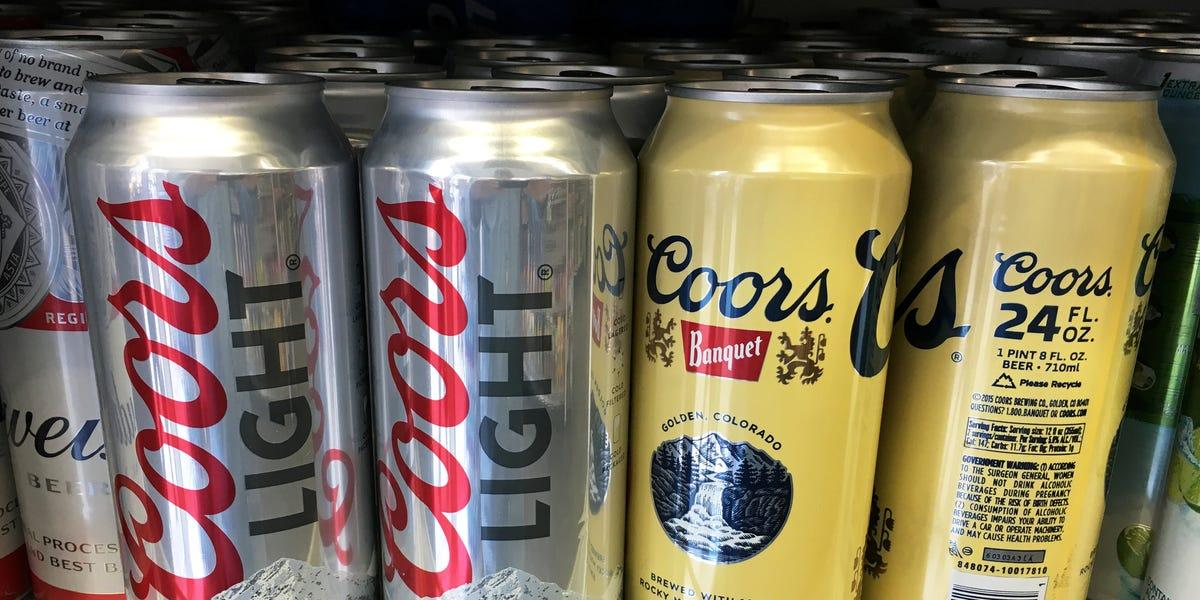metal: (2, 0, 358, 600), (886, 51, 1170, 600), (646, 65, 913, 600)
